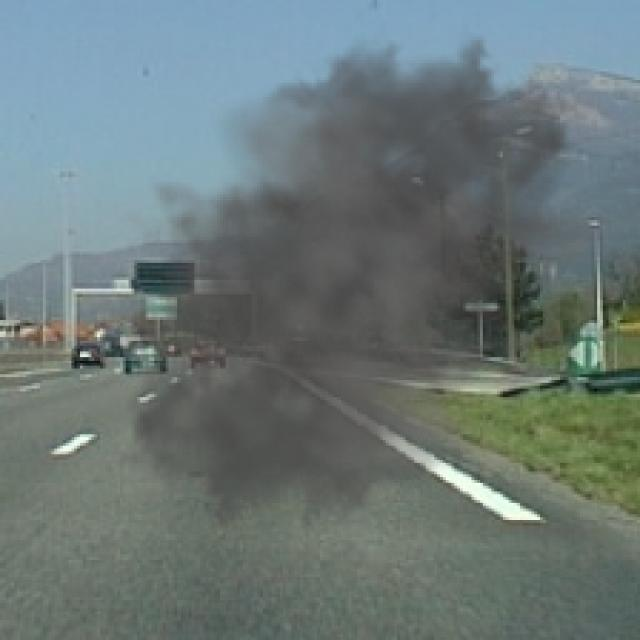smoke: (91, 0, 608, 566)
